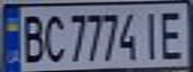4: (118, 9, 142, 61)
7: (66, 10, 87, 63), (100, 10, 121, 61), (84, 10, 103, 62)
B: (18, 10, 45, 64)
C: (39, 10, 69, 63)
E: (157, 7, 190, 61)
I: (139, 7, 163, 61)
